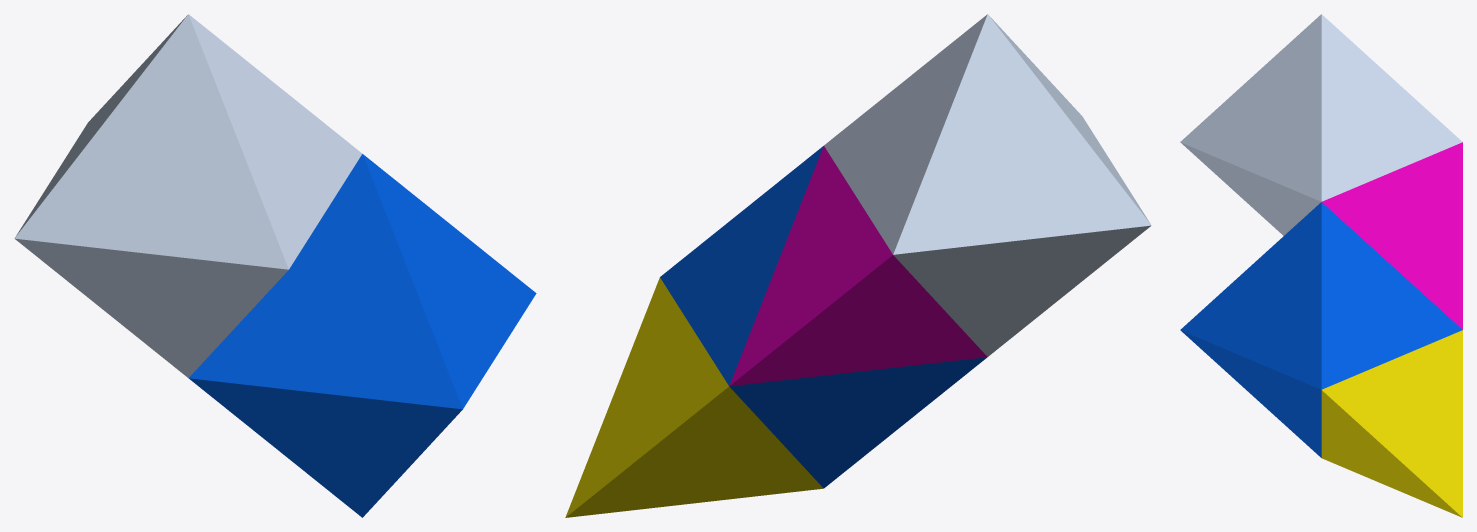
File: octTet_4.glb
3 views of the same model, side by side, from view 1: azimuth 30°, elevation 25°; view 2: azimuth 150°, elevation 25°; view 3: azimuth 270°, elevation 25° (orthographic). The views are drawn at different scales.
Bounding box in the file's own units: 6 × 6 × 4.
